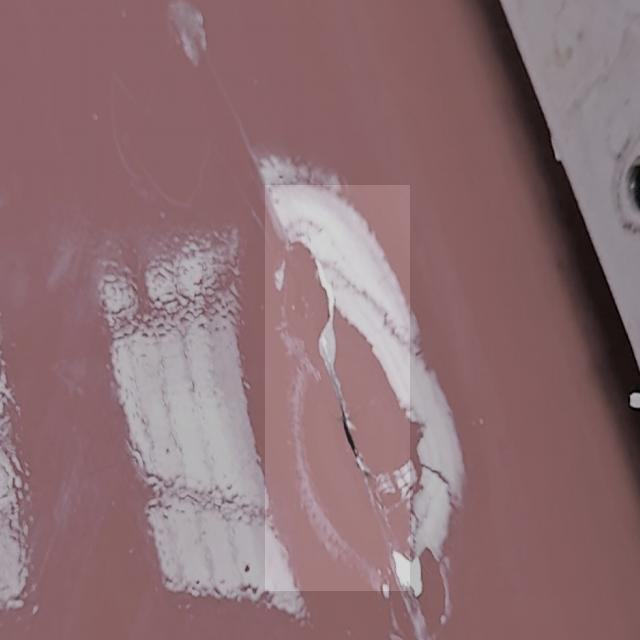crack: (266, 186, 411, 592)
